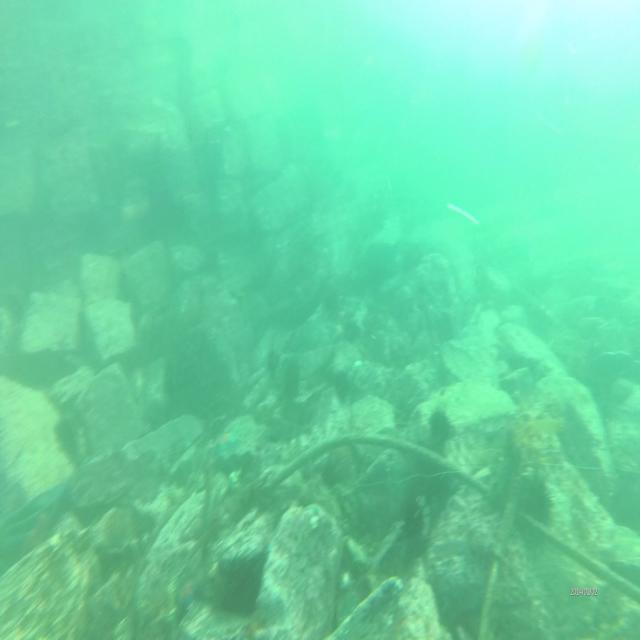echinus: (520, 472, 552, 524), (427, 405, 457, 449), (266, 348, 278, 367)
starfish: (213, 424, 241, 457), (176, 574, 199, 610)
